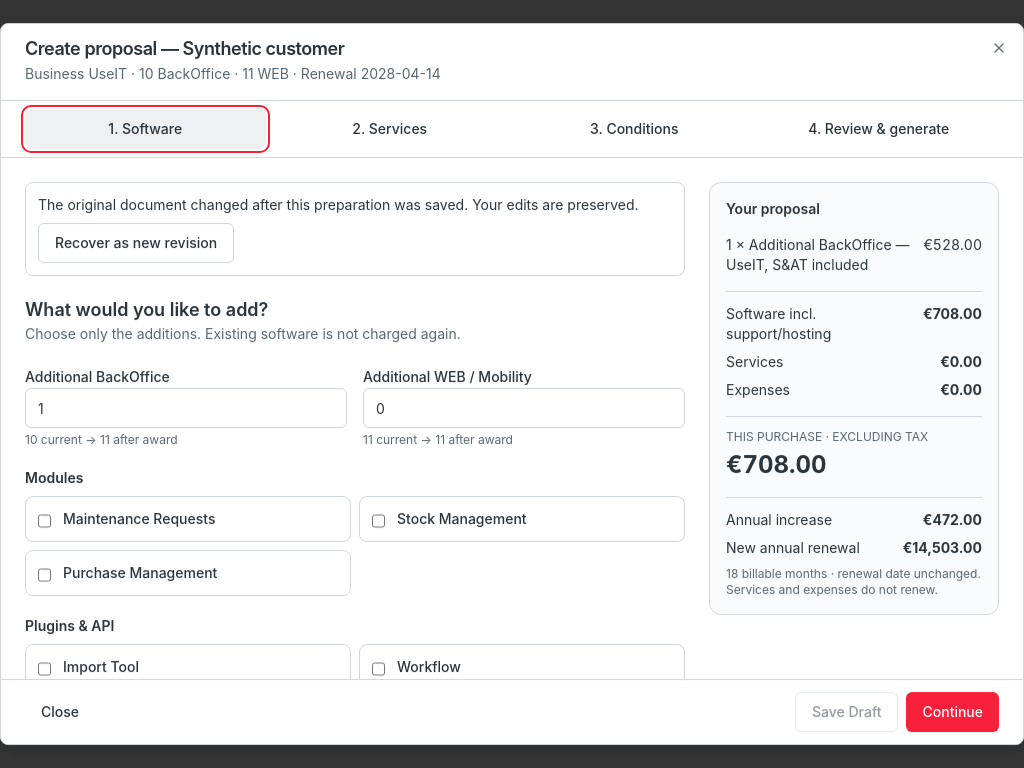
Addition proposal editor › recovers a stale linked preparation without losing its chosen scope or editing the issued document
This screenshot has width=1024, height=768.
expect the button "Save Draft" is disabled: met, box [795,692,898,732]
expect the number field labelled "Additional BackOffice" holds "1": met, box [25,388,347,428]
Click the button "Recover as new revision".
click(136, 243)  # box [38,223,234,263]
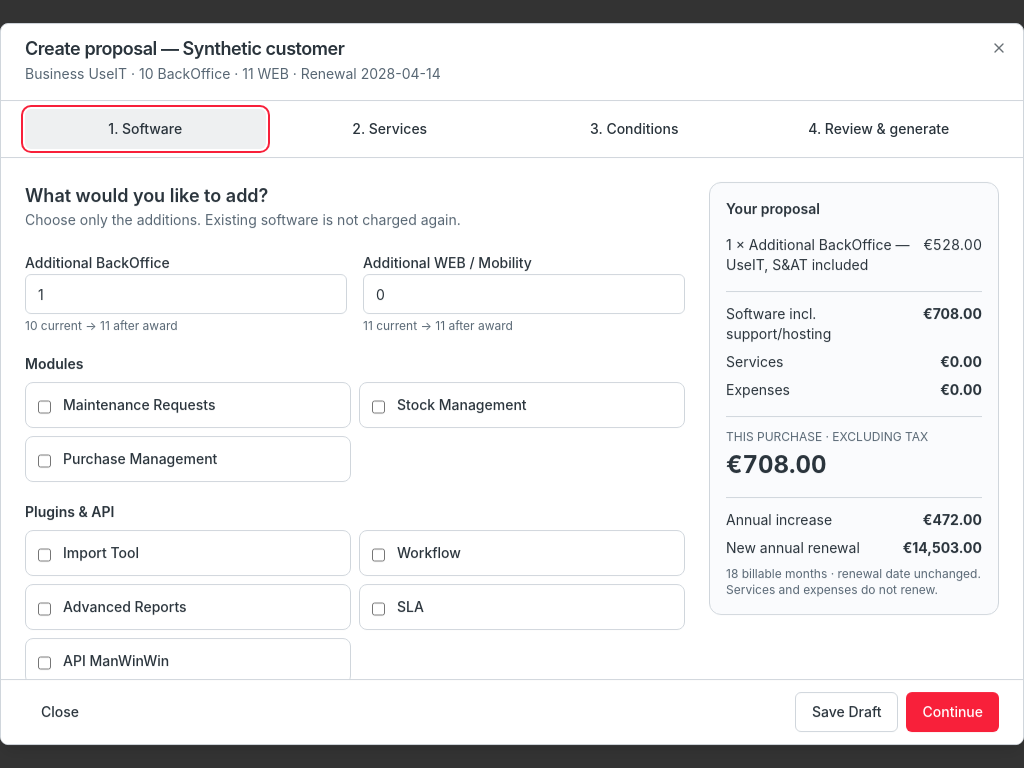
expect the number field labelled "Additional BackOffice" holds "1": met, box [25,274,347,314]
expect the button "Recover as new revision" is gone: met
